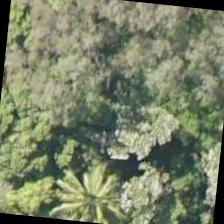Kelapa_Sawit: (42, 148, 140, 223)
